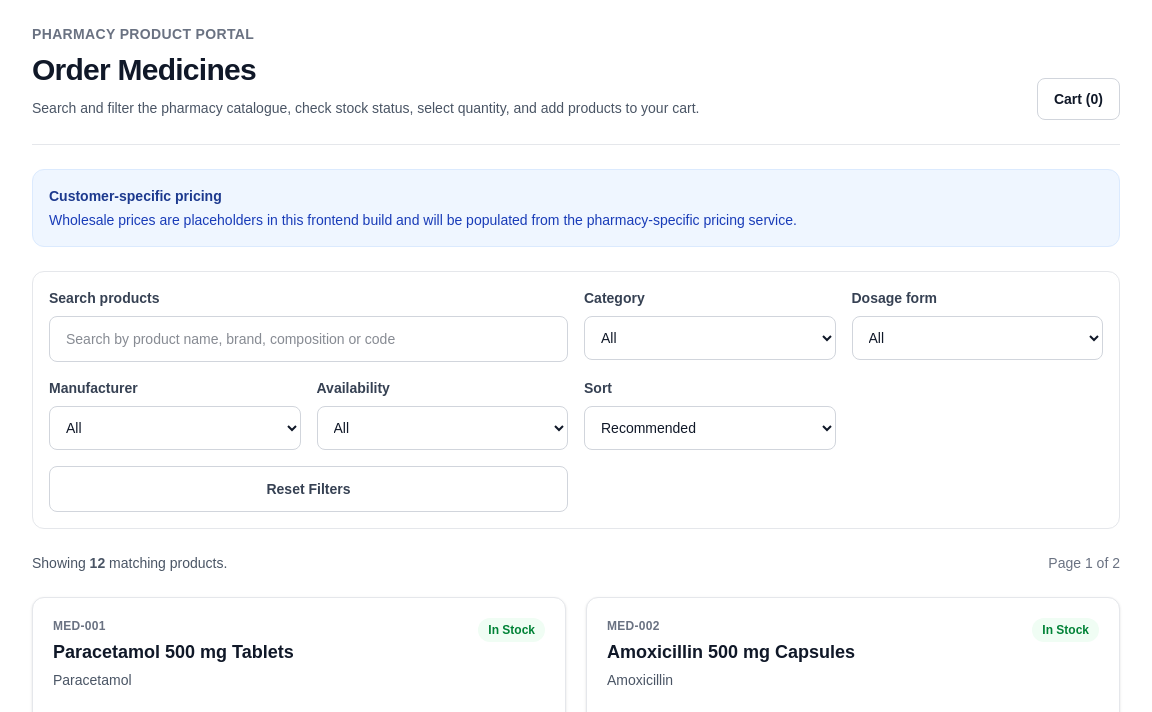
Test: Pharmacy Product Search Portal › filters products by availability
Select "Out of Stock" in the dropdown labelled "Availability" at (442, 428), box [316,406,568,450]
(page scrolled)
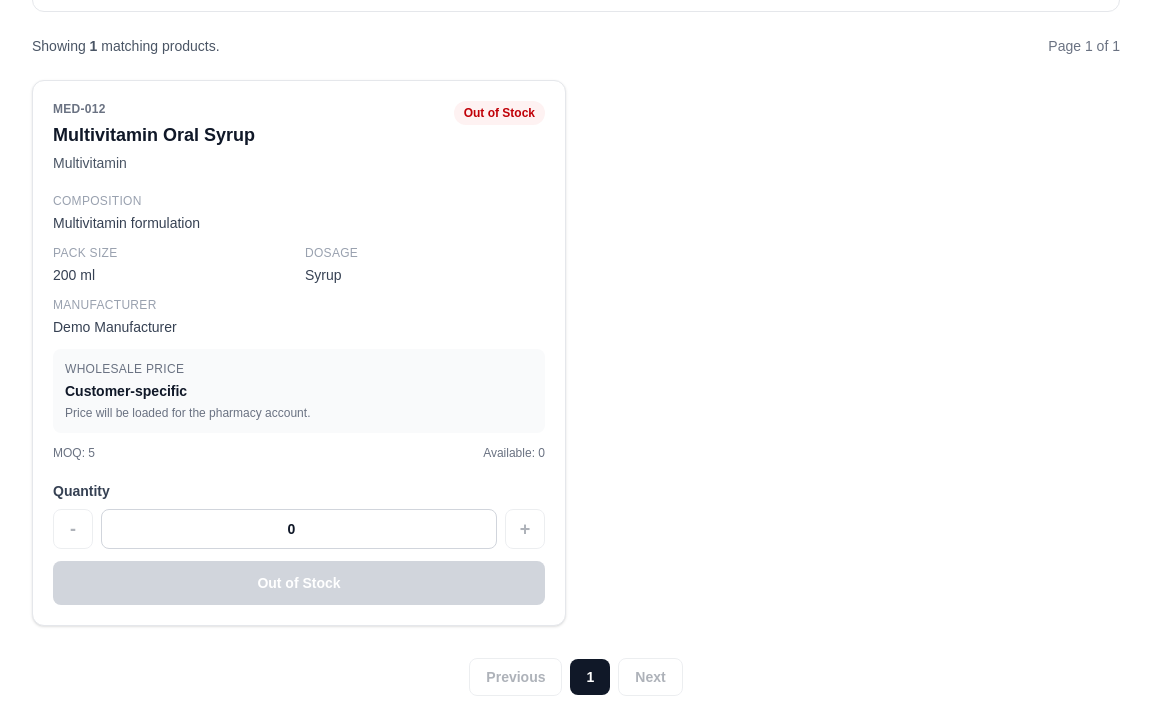
Check: the number of elements with test id "product-card" is 1, box [32,80,566,626]
Check: the heading "Multivitamin Oral Syrup" is shown, box [53,121,255,149]
Check: the button with aria-label "Add Multivitamin Oral Syrup to cart" is disabled, box [53,561,545,605]
